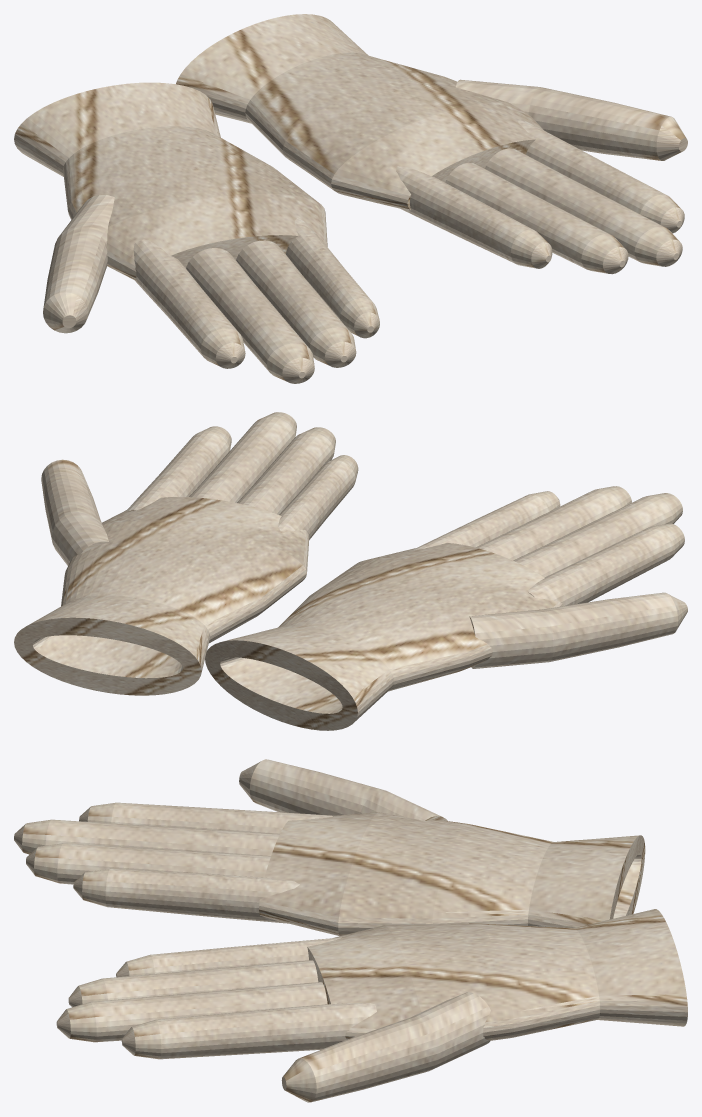
3 renders of one model, top to bottom at view 1: azimuth 30°, elevation 25°; view 2: azimuth 150°, elevation 25°; view 3: azimuth 270°, elevation 25°, orthographic. The views are drawn at different scales.
Visible parts, largest first — view 1: right_palm_cuff, left_palm_cuff, right_thumb, left_finger_1, right_finger_1, right_finger_2, right_finger_3, left_finger_0, left_thumb, left_finger_2, right_finger_0, left_finger_3; view 2: right_palm_cuff, left_palm_cuff, left_thumb, left_finger_0, left_finger_1, right_thumb, right_finger_1, left_finger_2, right_finger_2, right_finger_0, right_finger_3, left_finger_3; view 3: left_palm_cuff, right_palm_cuff, right_thumb, right_finger_0, left_finger_3, right_finger_1, left_thumb, left_finger_1, left_finger_2, right_finger_2, left_finger_0, right_finger_3.
Part boxes in pixels (bbox=[...]): right_palm_cuff: bbox=[176, 14, 543, 210]; left_palm_cuff: bbox=[14, 82, 327, 280]; right_thumb: bbox=[455, 79, 687, 160]; left_finger_1: bbox=[186, 248, 314, 383]; right_finger_1: bbox=[485, 148, 682, 266]; right_finger_2: bbox=[445, 162, 628, 274]; right_finger_3: bbox=[396, 166, 552, 268]; left_finger_0: bbox=[133, 239, 245, 368]; left_thumb: bbox=[43, 195, 114, 333]; left_finger_2: bbox=[236, 240, 356, 367]; right_finger_0: bbox=[518, 120, 684, 233]; left_finger_3: bbox=[286, 218, 379, 338]; right_palm_cuff: bbox=[14, 497, 309, 695]; left_palm_cuff: bbox=[205, 543, 563, 730]; left_thumb: bbox=[469, 592, 687, 668]; left_finger_0: bbox=[528, 523, 684, 605]; left_finger_1: bbox=[513, 493, 682, 577]; right_thumb: bbox=[41, 459, 108, 565]; right_finger_1: bbox=[189, 412, 296, 502]; left_finger_2: bbox=[475, 486, 631, 560]; right_finger_2: bbox=[237, 427, 335, 514]; right_finger_0: bbox=[126, 426, 231, 511]; right_finger_3: bbox=[278, 455, 358, 539]; left_finger_3: bbox=[413, 491, 560, 550]; left_palm_cuff: bbox=[259, 812, 645, 936]; right_palm_cuff: bbox=[307, 909, 687, 1040]; right_thumb: bbox=[281, 992, 490, 1102]; right_finger_0: bbox=[121, 1003, 376, 1059]; left_finger_3: bbox=[73, 868, 299, 923]; right_finger_1: bbox=[56, 982, 327, 1042]; left_thumb: bbox=[239, 759, 447, 820]; left_finger_1: bbox=[14, 819, 279, 855]; left_finger_2: bbox=[26, 843, 270, 884]; right_finger_2: bbox=[68, 960, 318, 1007]; left_finger_0: bbox=[79, 802, 333, 833]; right_finger_3: bbox=[116, 937, 341, 977].
Bounding box in the file's own units: 81 × 9.84 × 71.7.
2 materials, 2 textured.
